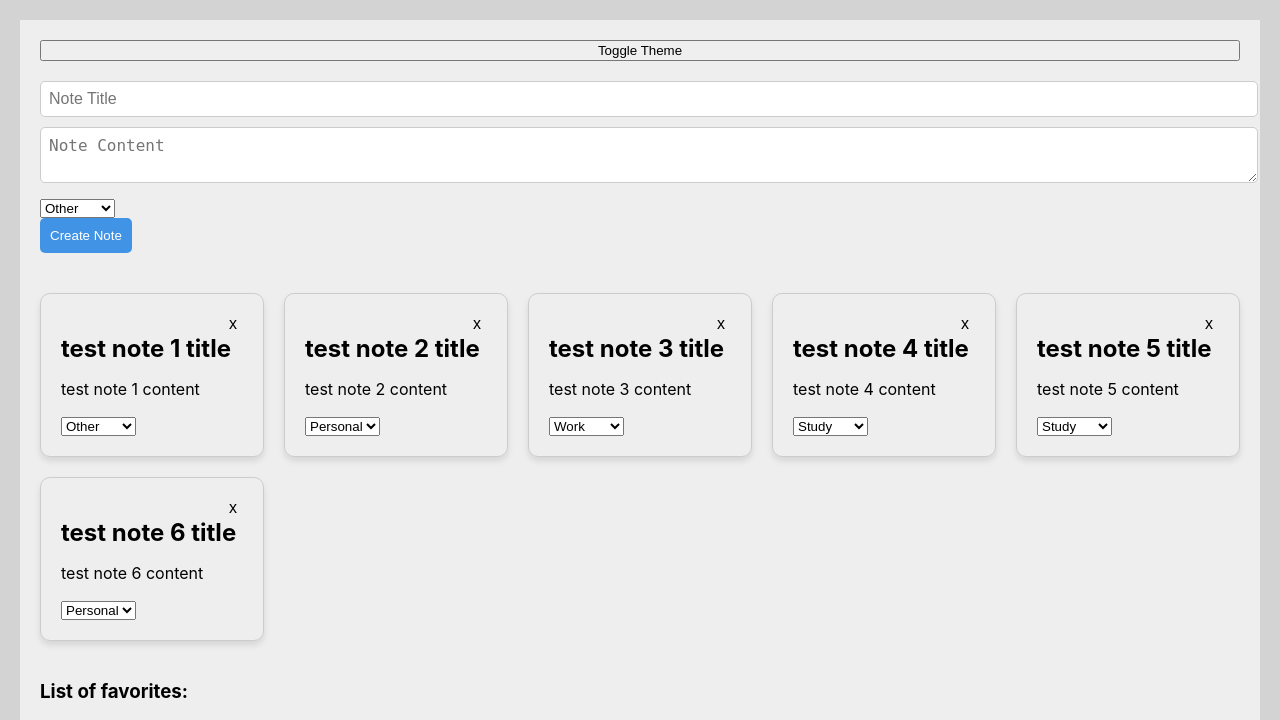
Test: deletes a note
Click the 1st button "x" at coordinates (233, 324), box [223,314,243,334]
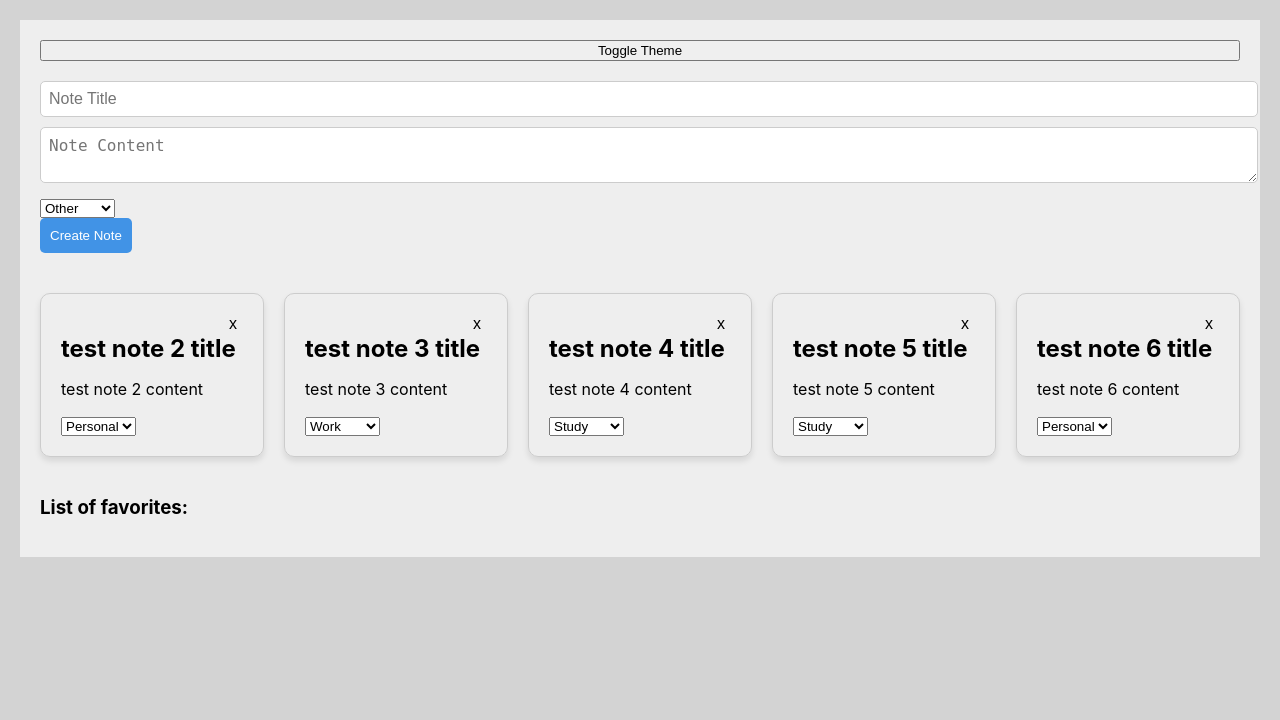
Expected: the heading "test note 1 title" is gone
